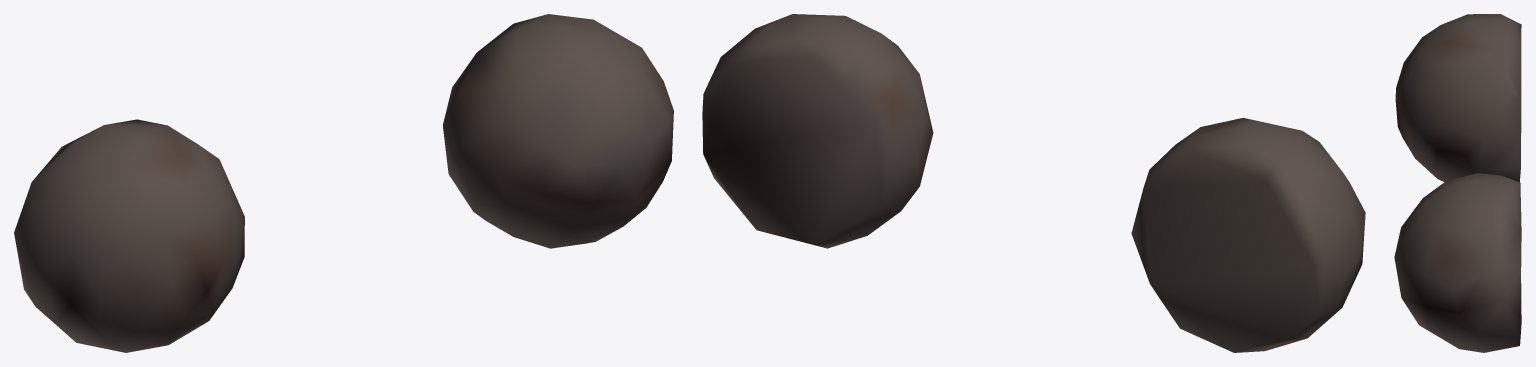
The model's file is widow_lids.glb.
3 renders of one model, left to right at view 1: azimuth 30°, elevation 25°; view 2: azimuth 150°, elevation 25°; view 3: azimuth 270°, elevation 25°, orthographic. The views are drawn at different scales.
Parts seen in each view (by area): view 1: widow_lids; view 2: widow_lids; view 3: widow_lids.
Boxes of the visible parts, x1,y1,x2,y2 form: widow_lids: (14, 14, 673, 352); widow_lids: (702, 14, 1365, 352); widow_lids: (1394, 14, 1521, 352).
Bounding box in the file's own units: 0.0895 × 0.0289 × 0.0205.
